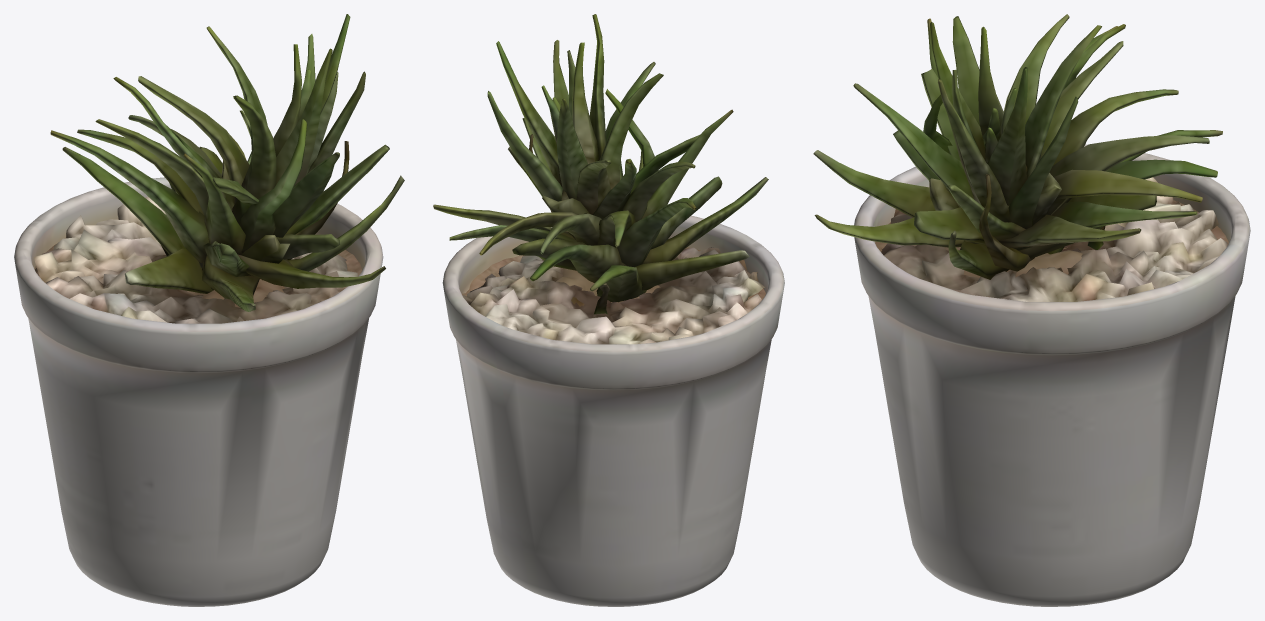
Rendered from succulent.glb.
3 renders of one model, left to right at view 1: azimuth 30°, elevation 25°; view 2: azimuth 150°, elevation 25°; view 3: azimuth 270°, elevation 25°, orthographic. The views are drawn at different scales.
Parts seen in each view (by area): view 1: potted_plant_04_pot, potted_plant_04_plant, potted_plant_04_ground, potted_plant_04_dirt; view 2: potted_plant_04_pot, potted_plant_04_plant, potted_plant_04_ground, potted_plant_04_dirt; view 3: potted_plant_04_pot, potted_plant_04_plant, potted_plant_04_ground, potted_plant_04_dirt.
Part boxes in pixels (x1,y1,x2,y2): potted_plant_04_pot: (14,177,383,606); potted_plant_04_plant: (50,14,404,311); potted_plant_04_ground: (34,197,358,323); potted_plant_04_dirt: (34,238,362,307); potted_plant_04_pot: (442,215,784,606); potted_plant_04_plant: (433,14,768,314); potted_plant_04_ground: (463,247,765,344); potted_plant_04_dirt: (462,247,765,306); potted_plant_04_pot: (854,144,1250,606); potted_plant_04_plant: (813,14,1222,279); potted_plant_04_ground: (881,177,1227,301); potted_plant_04_dirt: (875,200,1228,297).
Bounding box in the file's own units: 0.1679 × 0.2675 × 0.1848.
1 material, 1 textured.
